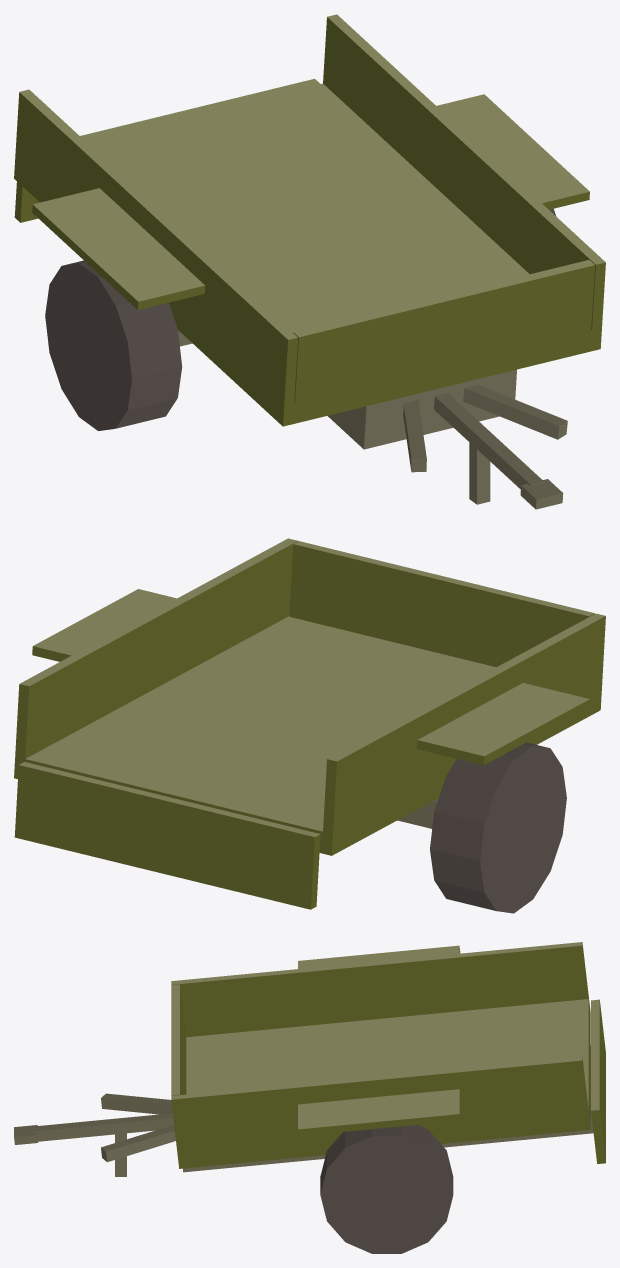
The model's file is SM_RemolqueMunicion_v4_Vacio_LOD0.fbx.
3 views of the same model, one above another, from view 1: azimuth 30°, elevation 25°; view 2: azimuth 150°, elevation 25°; view 3: azimuth 270°, elevation 25° (orthographic). The views are drawn at different scales.
Parts seen in each view (by area): view 1: SM_remolque_municion_v4_LOD0; view 2: SM_remolque_municion_v4_LOD0; view 3: SM_remolque_municion_v4_LOD0.
Part boxes in pixels (x1,y1,x2,y2): SM_remolque_municion_v4_LOD0: (14, 14, 605, 509); SM_remolque_municion_v4_LOD0: (14, 538, 605, 913); SM_remolque_municion_v4_LOD0: (14, 942, 605, 1253).
Size of the model in its own units: 2.7 by 1.29 by 4.01.
